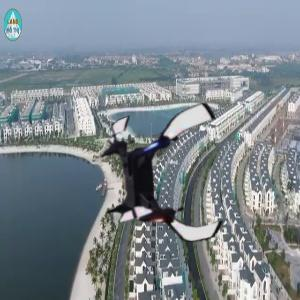drone: (91, 104, 244, 257)
